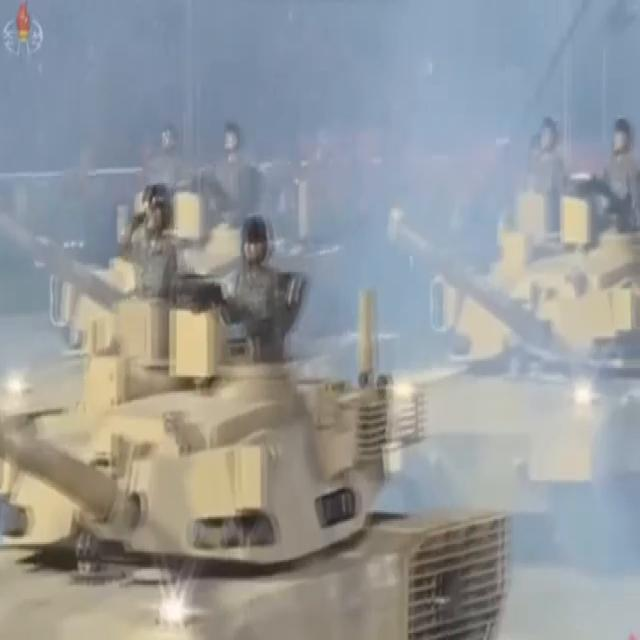north tank: (0, 253, 516, 640), (365, 152, 640, 556)
